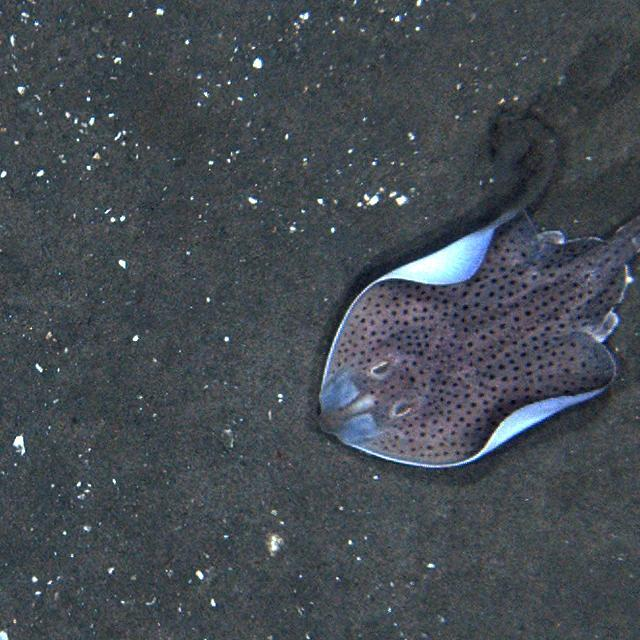skate: (313, 205, 640, 470)
